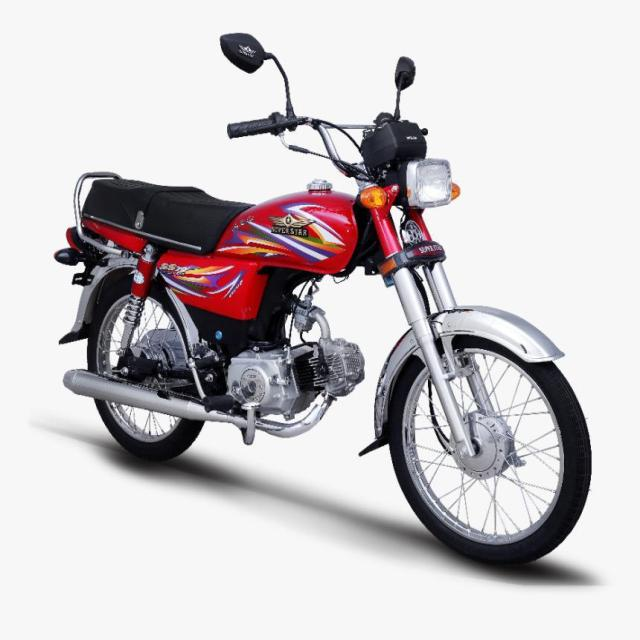motorcycle: (41, 24, 614, 576)
